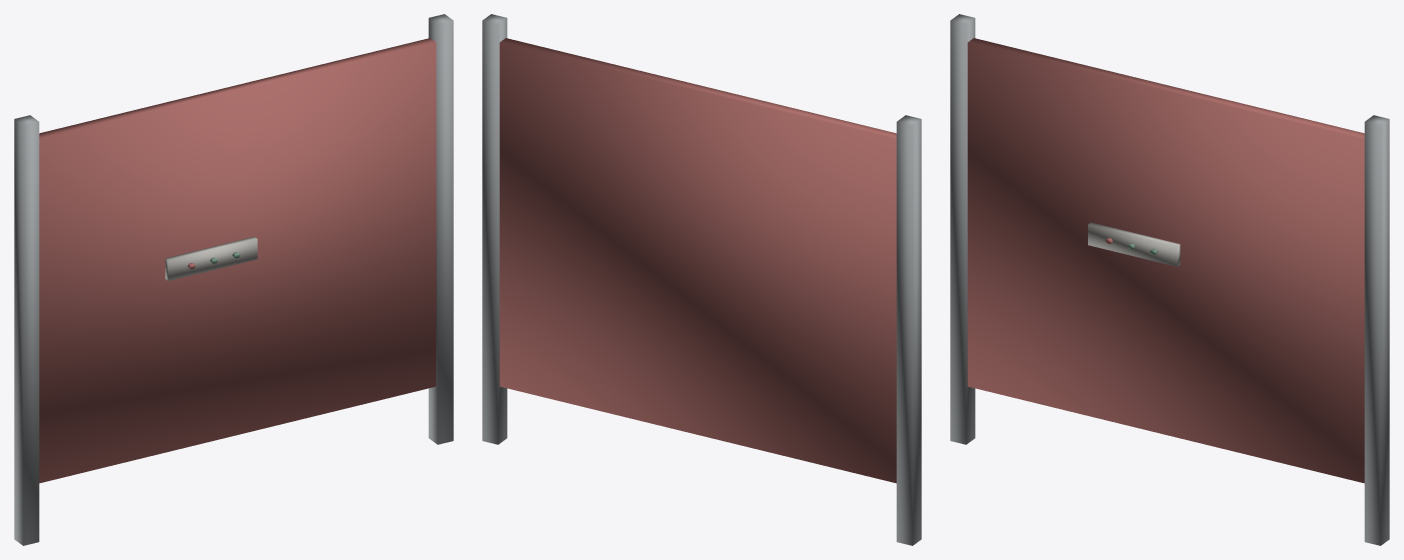
File: welding_screen__squat.glb
3 renders of one model, left to right at view 1: azimuth 30°, elevation 25°; view 2: azimuth 150°, elevation 25°; view 3: azimuth 330°, elevation 25°, orthographic.
Visible parts, largest first — view 1: world; view 2: world; view 3: world.
Part boxes in pixels (box(x1,y1,x2,y2)): world: box(14, 14, 453, 545); world: box(482, 14, 921, 545); world: box(950, 14, 1389, 545).
Bounding box in the file's own units: 1.49 × 1.39 × 0.0875.
